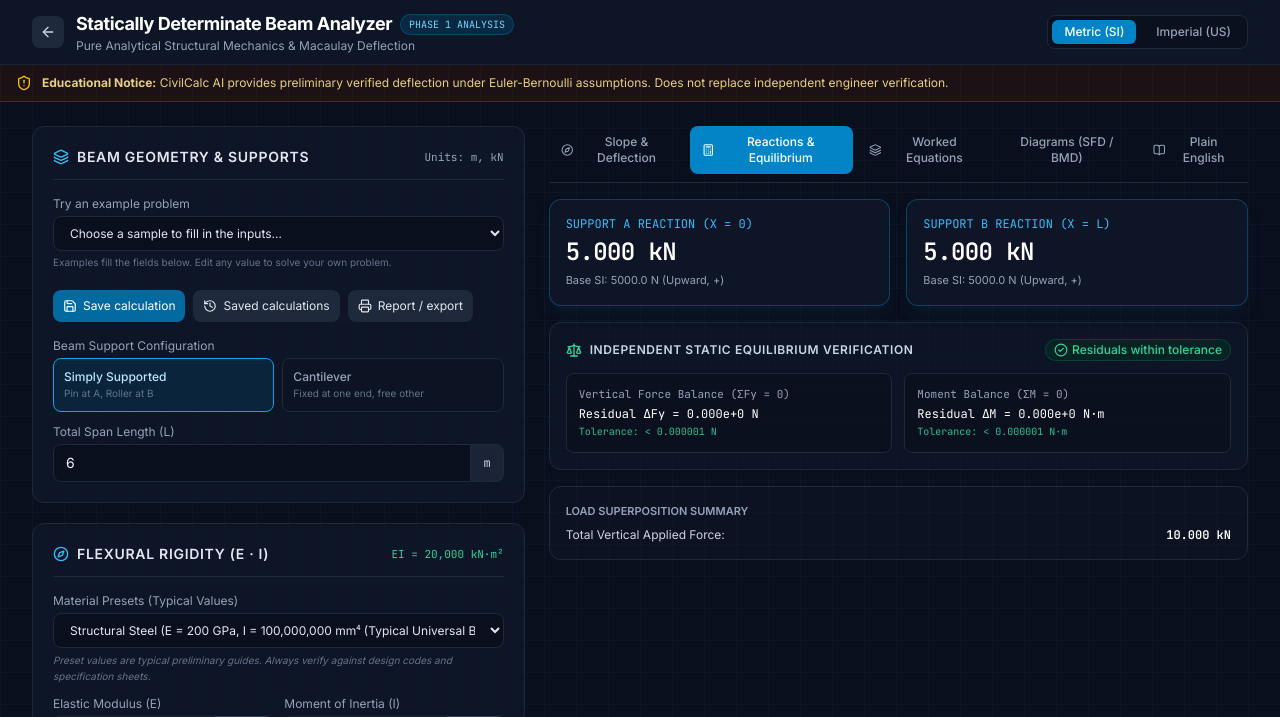
BeamWorkspace Component (Milestone 2 & 3) › shows the template-based plain-English explanation
Click the button "Plain English" at coordinates (1194, 150), box x1=1141 y1=126 x2=1248 y2=174
(page scrolled)
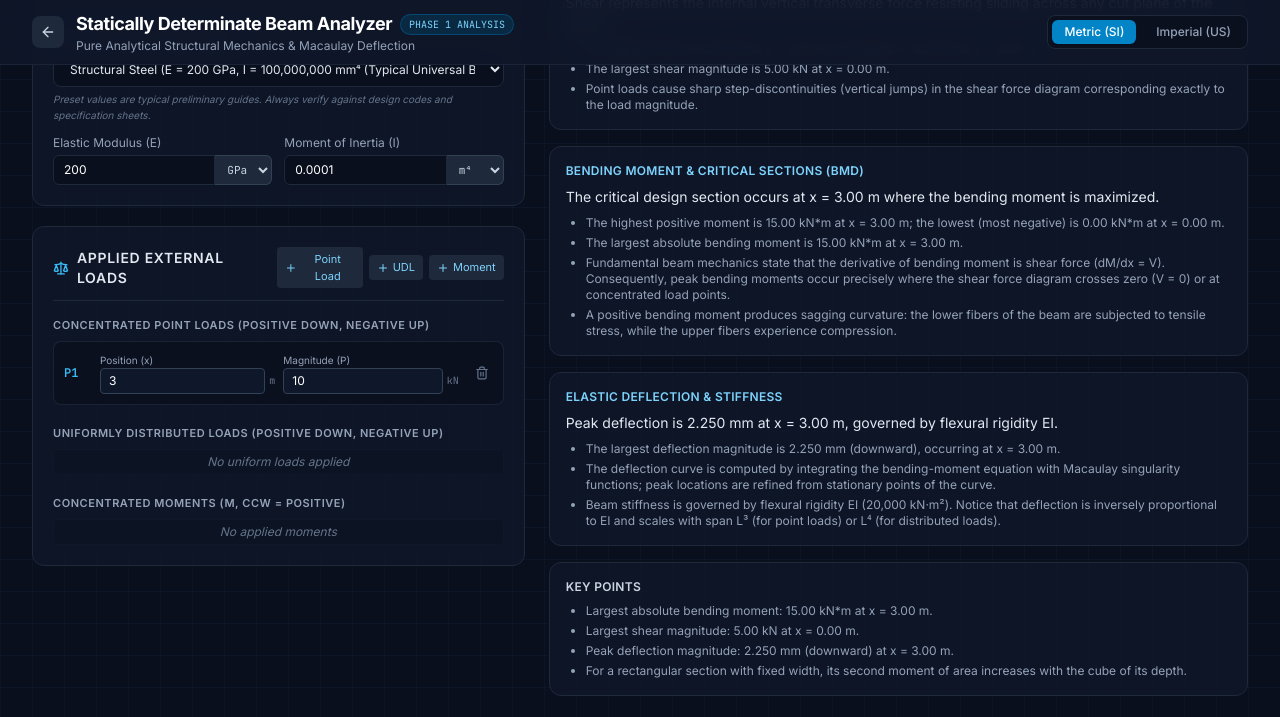
expect the heading "Key points" is shown: met, box x1=566 y1=578 x2=641 y2=594
